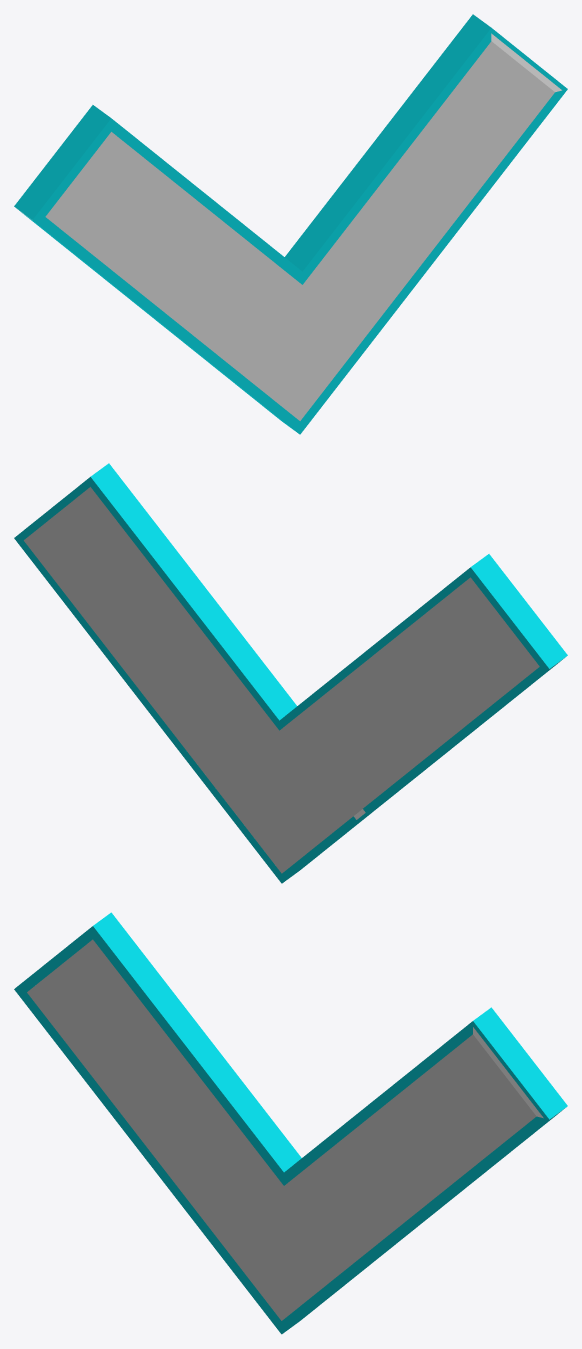
File: arrow_01-transformed.glb
3 renders of one model, top to bottom at view 1: azimuth 30°, elevation 25°; view 2: azimuth 150°, elevation 25°; view 3: azimuth 330°, elevation 25°, orthographic.
Visible parts, largest first — view 1: Cube; view 2: Cube; view 3: Cube.
Part boxes in pixels (left/top/right/bottom): Cube: left=14, top=14, right=567, bottom=434; Cube: left=14, top=463, right=567, bottom=883; Cube: left=14, top=912, right=567, bottom=1334.
Size of the model in its own units: 98.98 by 64.06 by 5.93.
